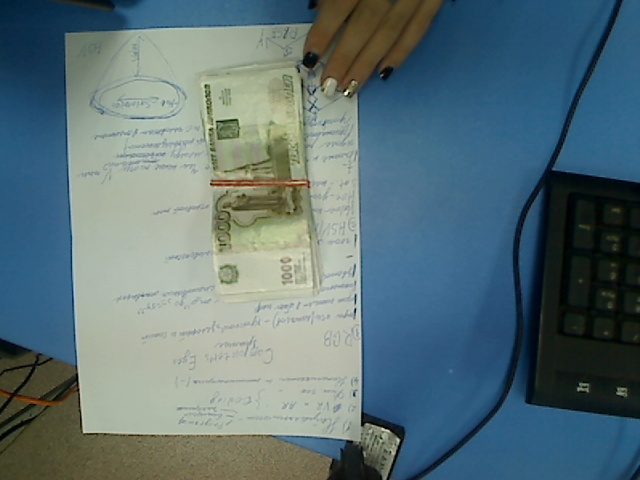banknotes: (195, 62, 325, 302)
